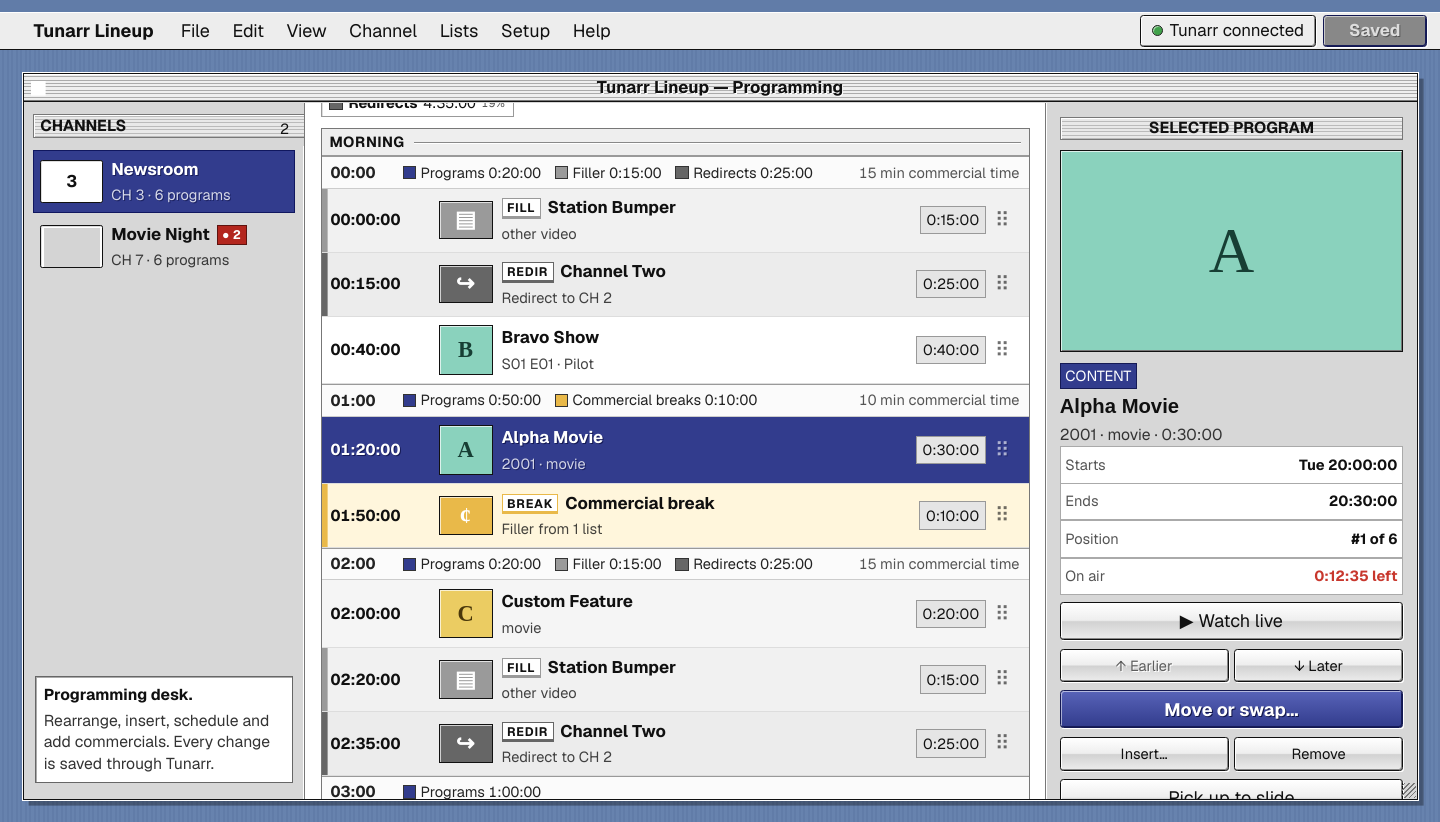
Test case: live mode › keeps changes and reports the error when a save fails
(page scrolled)
Click the button "01:20:00 A Alpha Movie 2001 · movie 0:30:00 ⠿" at (365, 450), box top-left (322, 417), bottom-right (1028, 484)
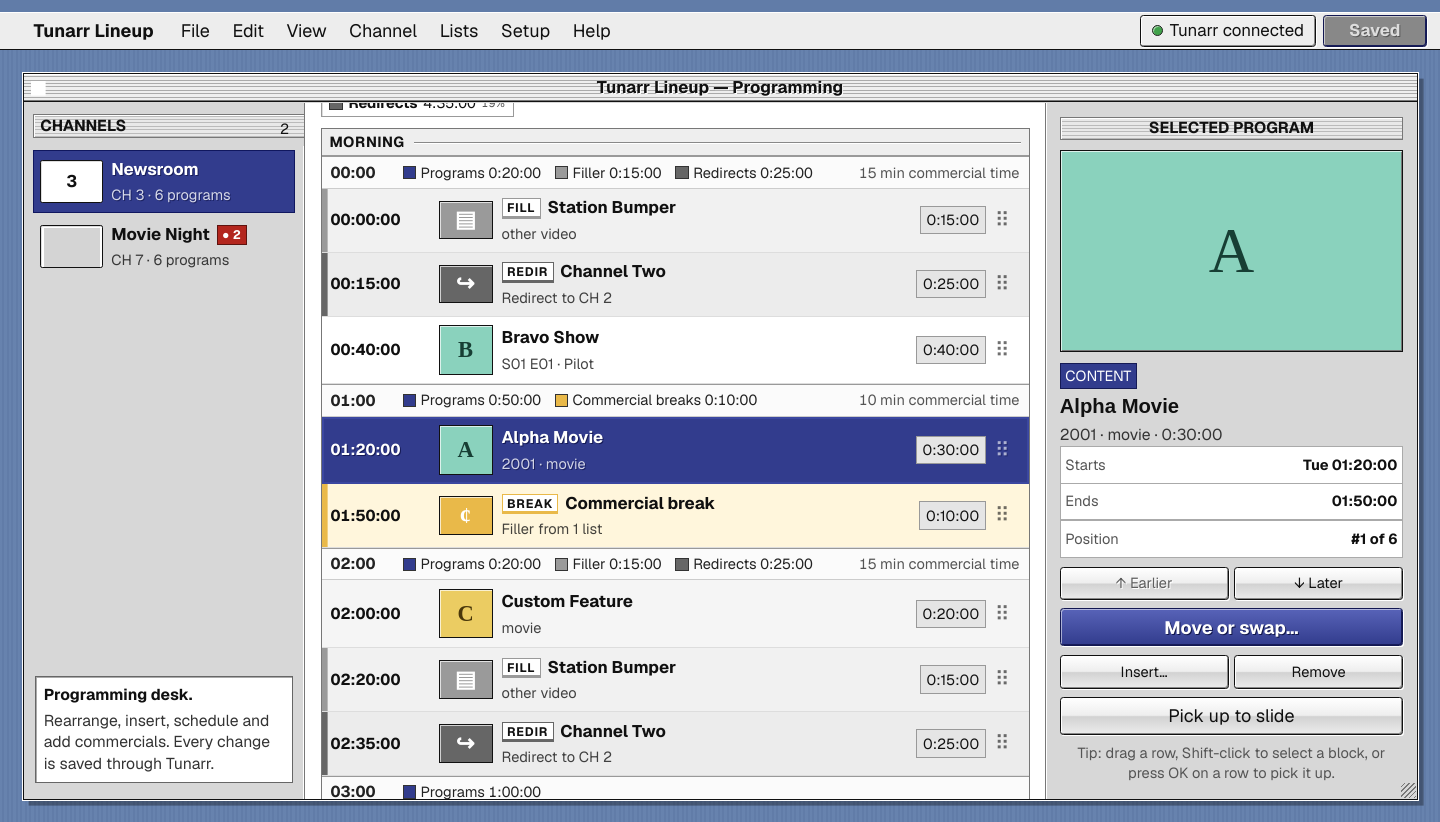
Click the button "↓ Later" at (1319, 583), box top-left (1234, 566), bottom-right (1403, 600)
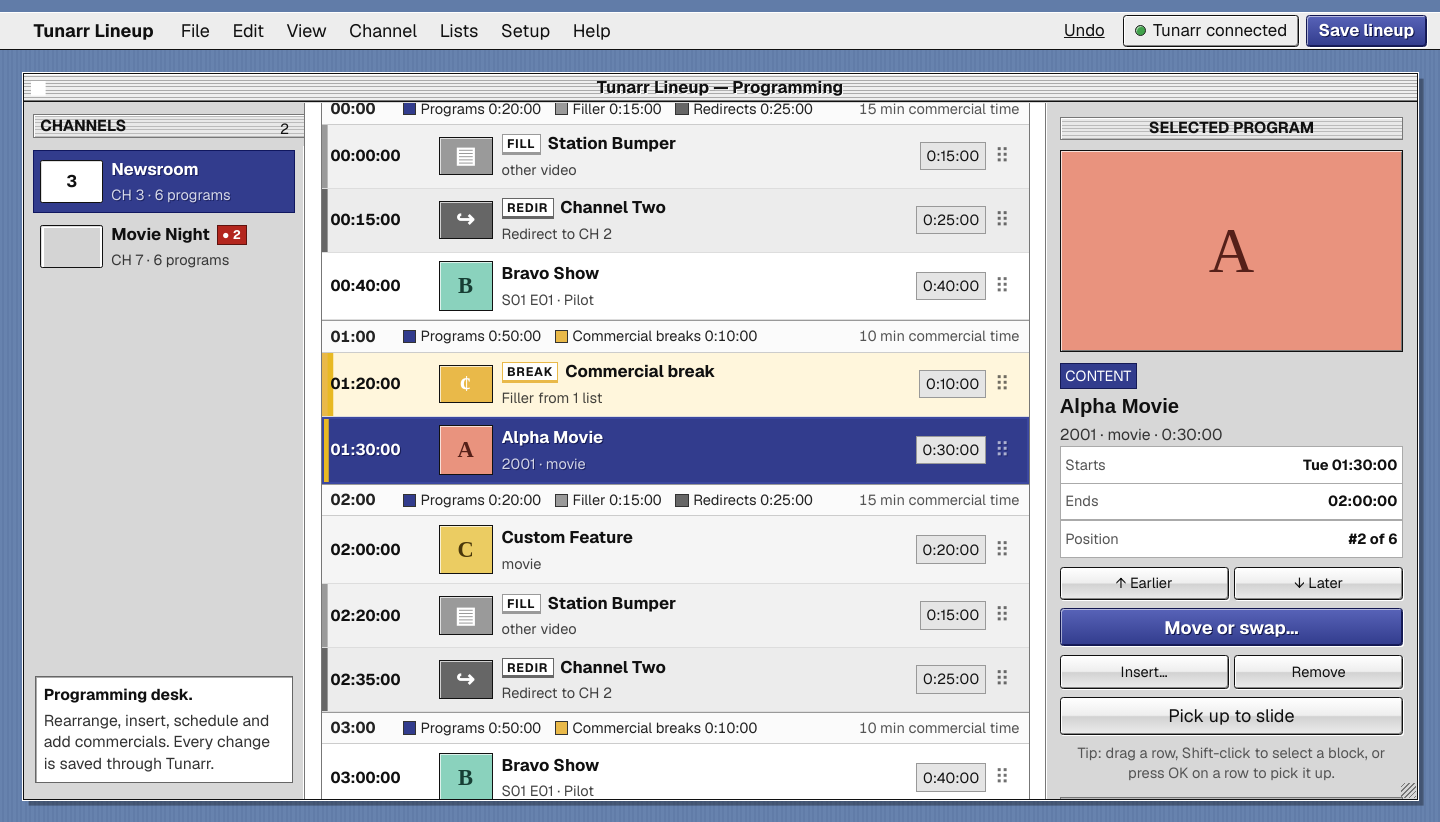
Click the button "Save lineup" at (1366, 31), box top-left (1306, 15), bottom-right (1426, 46)
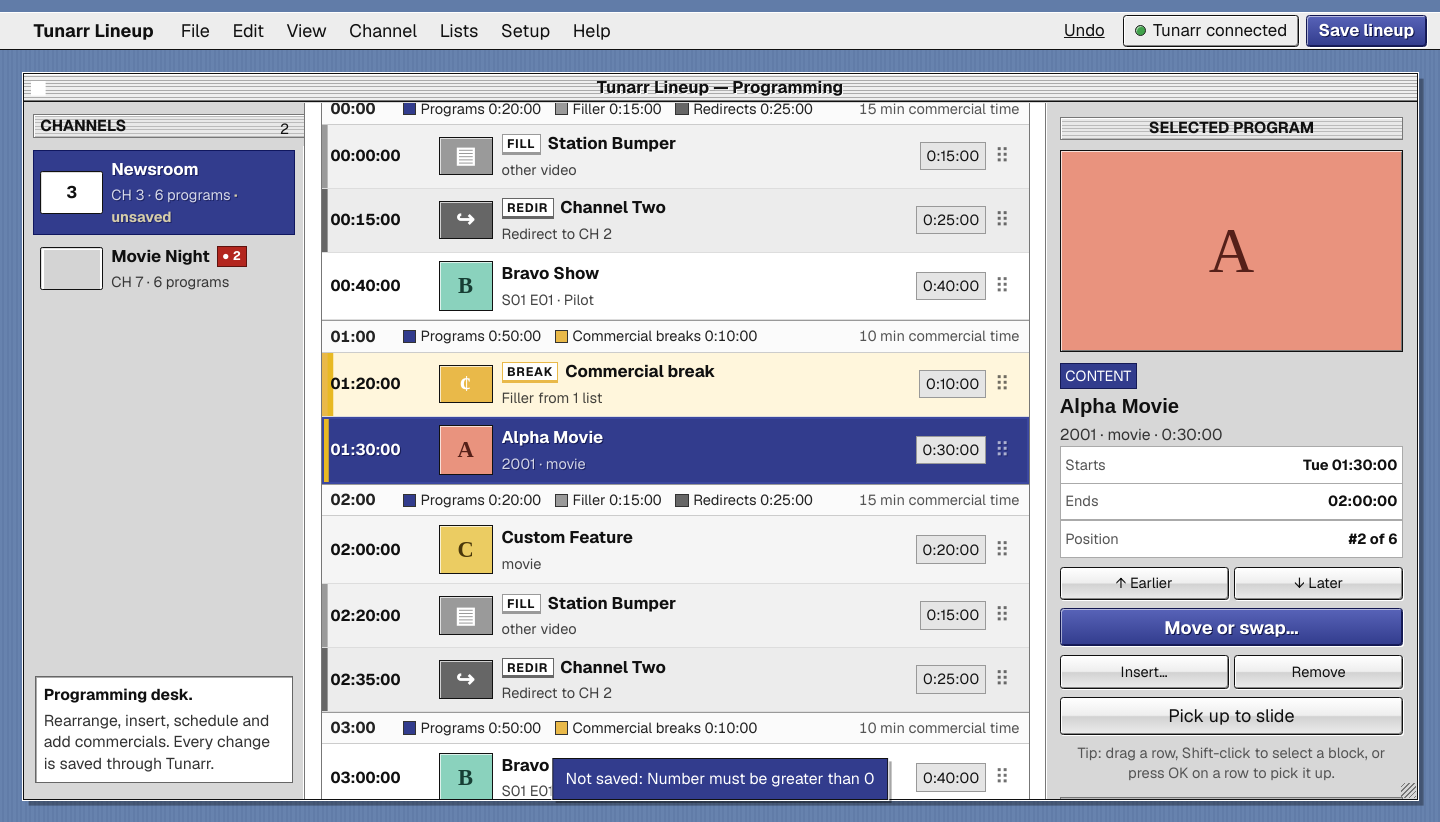
Now the button "Save lineup" is shown, box top-left (1306, 15), bottom-right (1426, 46)
Now the text "Not saved: Number must be greater than 0" is shown, box top-left (552, 758), bottom-right (888, 800)
